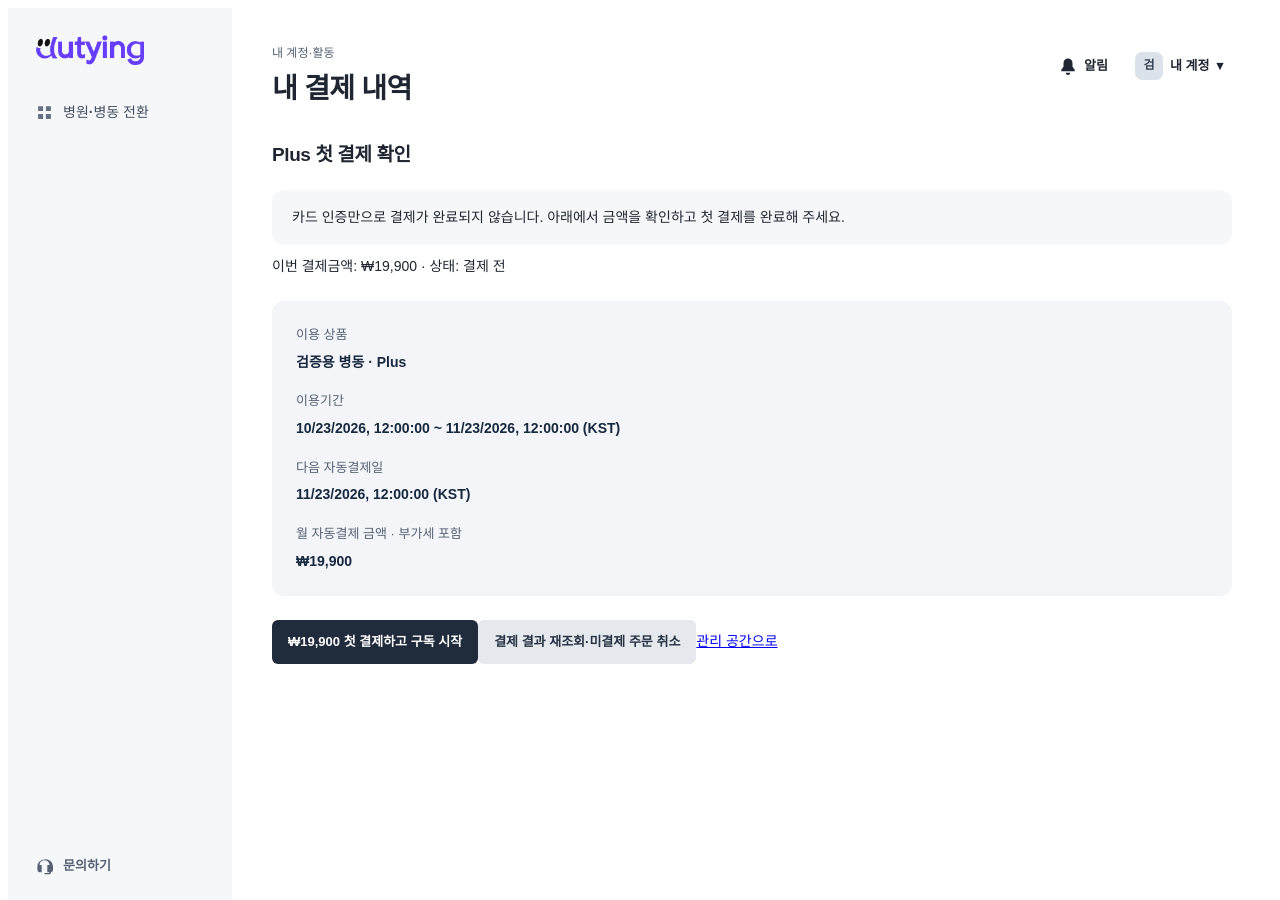
Test: card authorization callback and first charge › shows the original service period and amount, scrubs authorization and only charges on explicit confirmation
Check: the text "검증용 병동 · Plus" is shown, box [296,354,406,370]
Check: the text "월 자동결제 금액 · 부가세 포함" is shown, box [296,526,462,541]
Click the button "₩19,900 첫 결제하고 구독 시작": (375,642) [272,620,478,664]
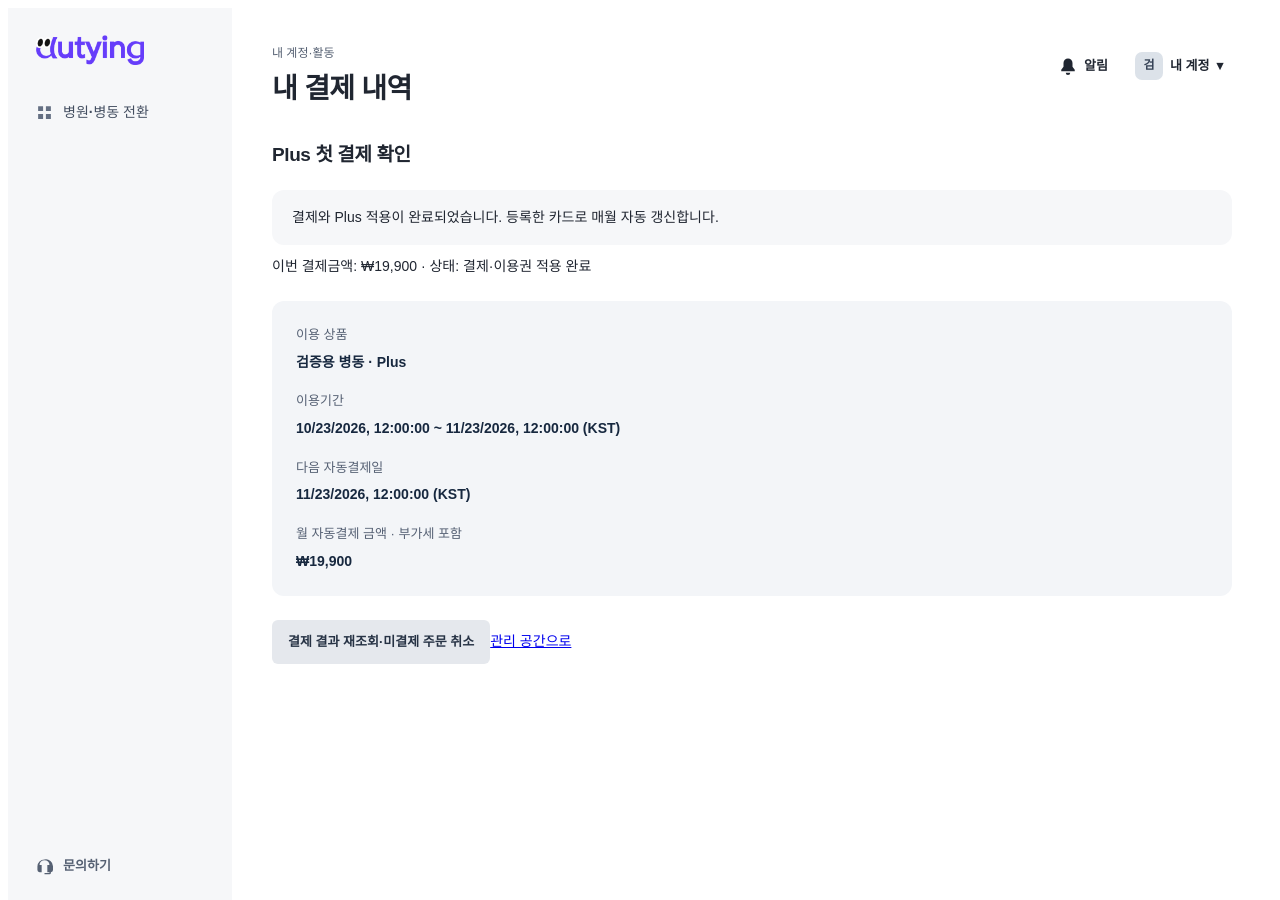
Check: the text "결제와 Plus 적용이 완료되었습니다. 등록한 카드로 매월 자동 갱신합니다." is shown, box [272,190,1232,245]
Check: the button "첫 결제하고 구독 시작" is gone
